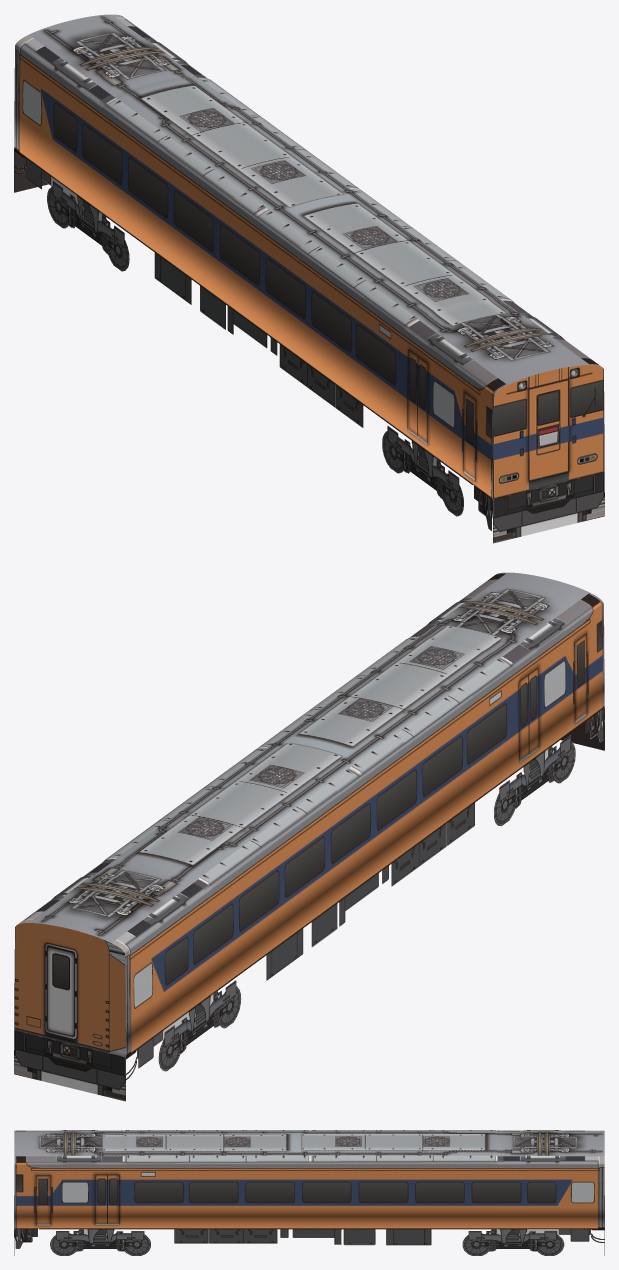
The model's file is car1.glb.
3 renders of one model, top to bottom at view 1: azimuth 30°, elevation 25°; view 2: azimuth 150°, elevation 25°; view 3: azimuth 270°, elevation 25°, orthographic. The views are drawn at different scales.
Parts seen in each view (by area): view 1: kintetsu-30000-car1; view 2: kintetsu-30000-car1; view 3: kintetsu-30000-car1.
Boxes of the visible parts, bbox=[...] form: kintetsu-30000-car1: bbox=[14, 14, 604, 543]; kintetsu-30000-car1: bbox=[14, 572, 604, 1101]; kintetsu-30000-car1: bbox=[14, 1130, 604, 1255].
Bounding box in the file's own units: 2.8 × 3.82 × 20.83.
8 materials, 7 textured.
